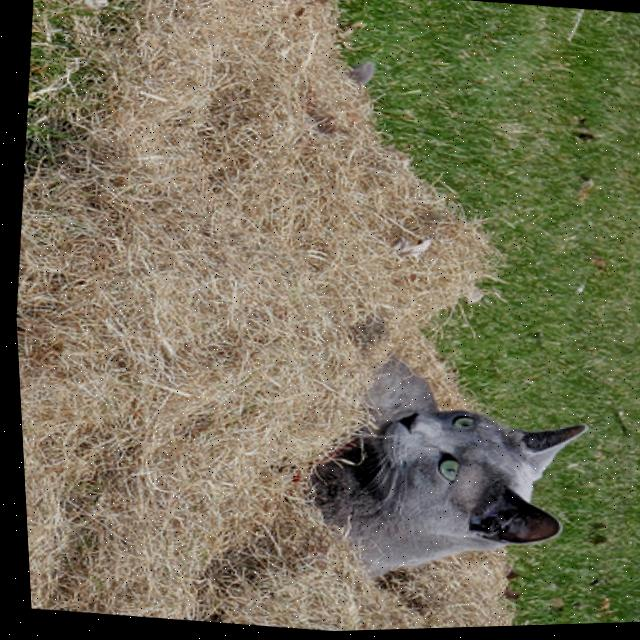Russian Blue: (275, 341, 599, 609)
